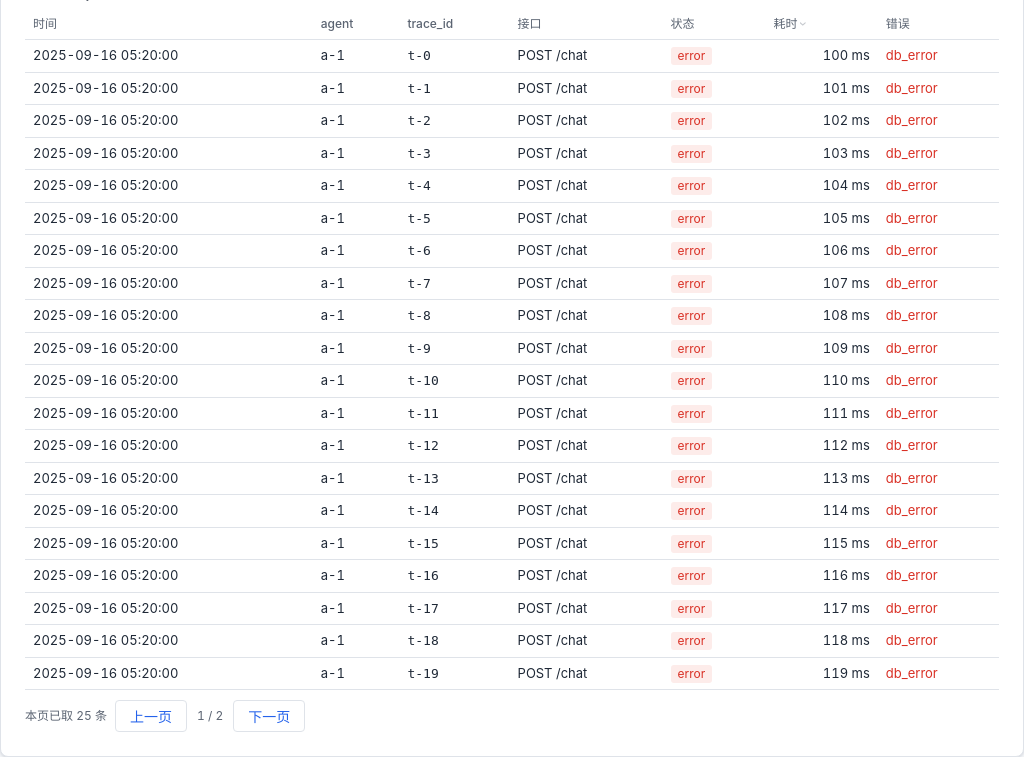
Test: 批 49 异常页分页（每页 20） › 25 条：首屏只渲染 20 行 + 页脚「1 / 2」，翻页后剩 5 行
The image size is (1024, 757).
(page scrolled)
Expected: the text "1 / 2" is shown, [197,707,223,725]
Click the button "下一页". click: {"x": 269, "y": 716}
box: [233,700,305,732]
(page scrolled)
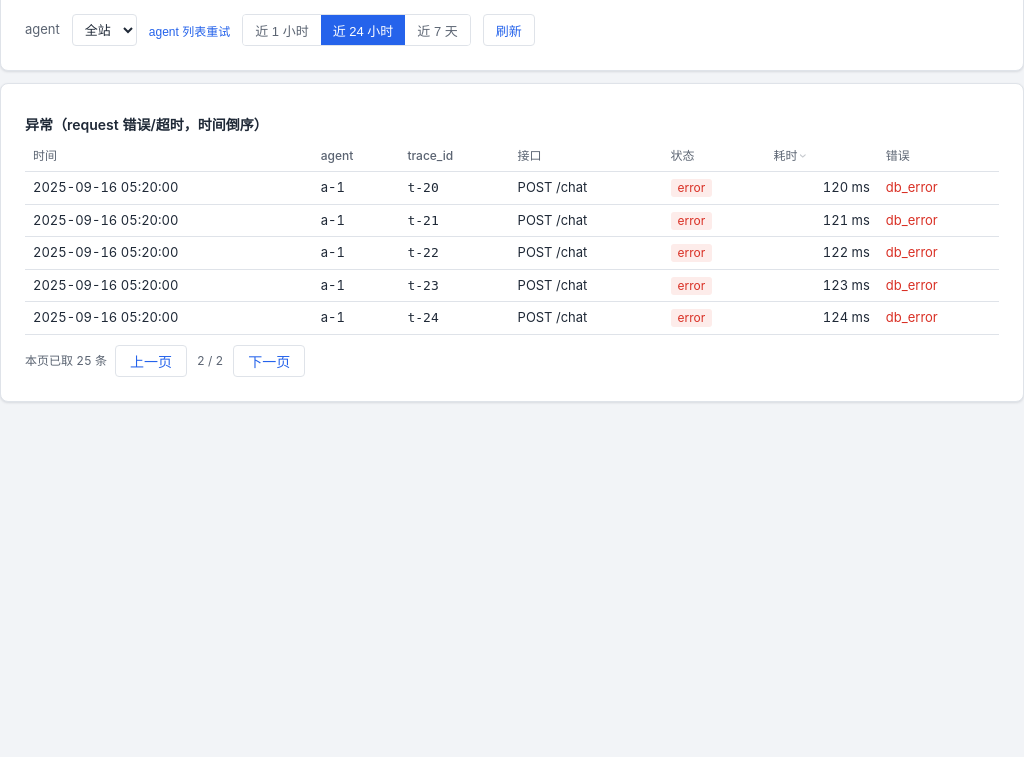
Expected: the text "2 / 2" is shown, [197,352,223,370]
